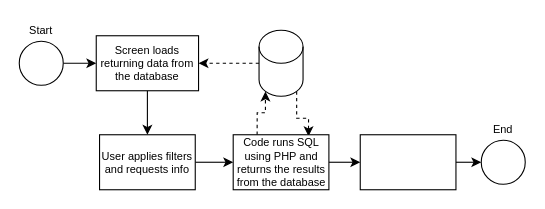
The diagram is 545 pixels wide and 209 high, and some of its shapes have lost their labels. Each missing label, with the box of its shape:
DB: (258, 29, 303, 96)
HTML page outputs the results: (359, 134, 456, 190)
